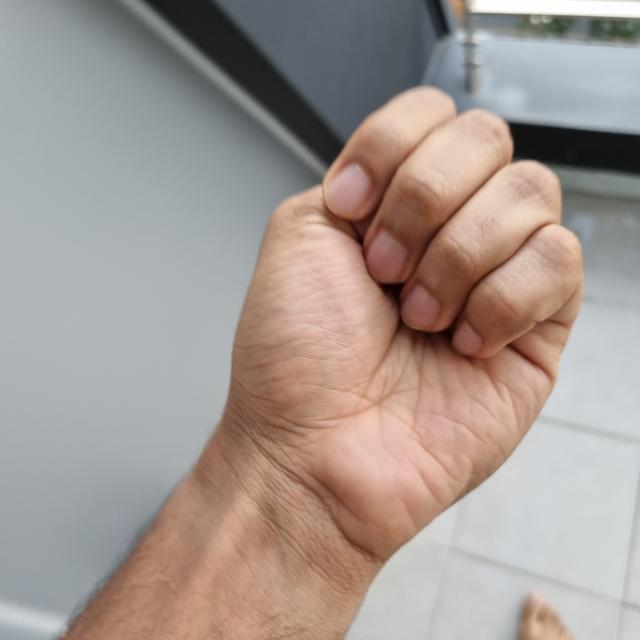Rock: (213, 88, 582, 541)
